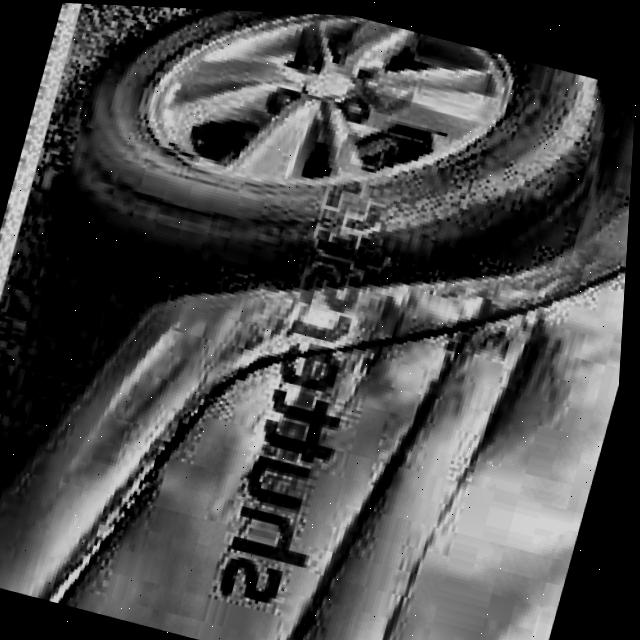door_dent: (188, 223, 561, 479)
